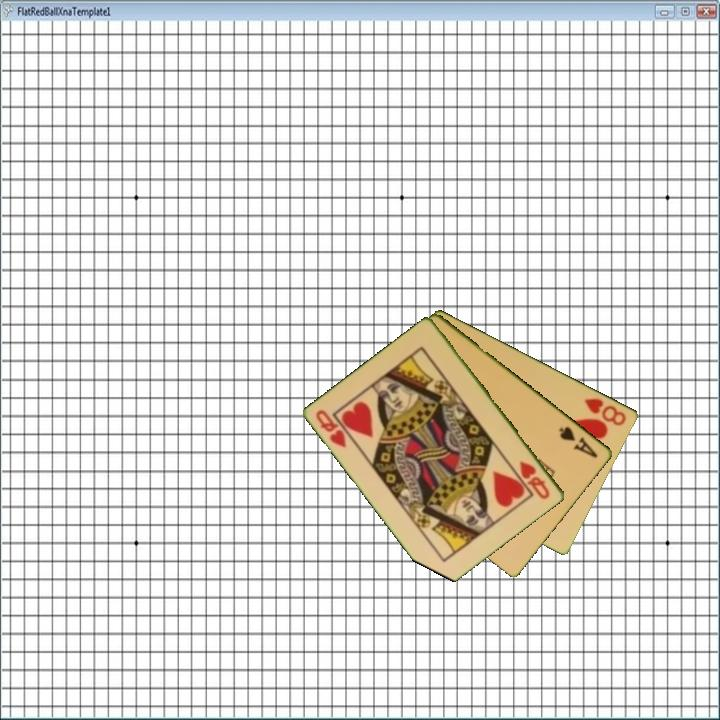8h: (581, 394, 629, 428)
As: (556, 422, 601, 461)
Qh: (312, 406, 350, 451), (516, 457, 553, 502)
